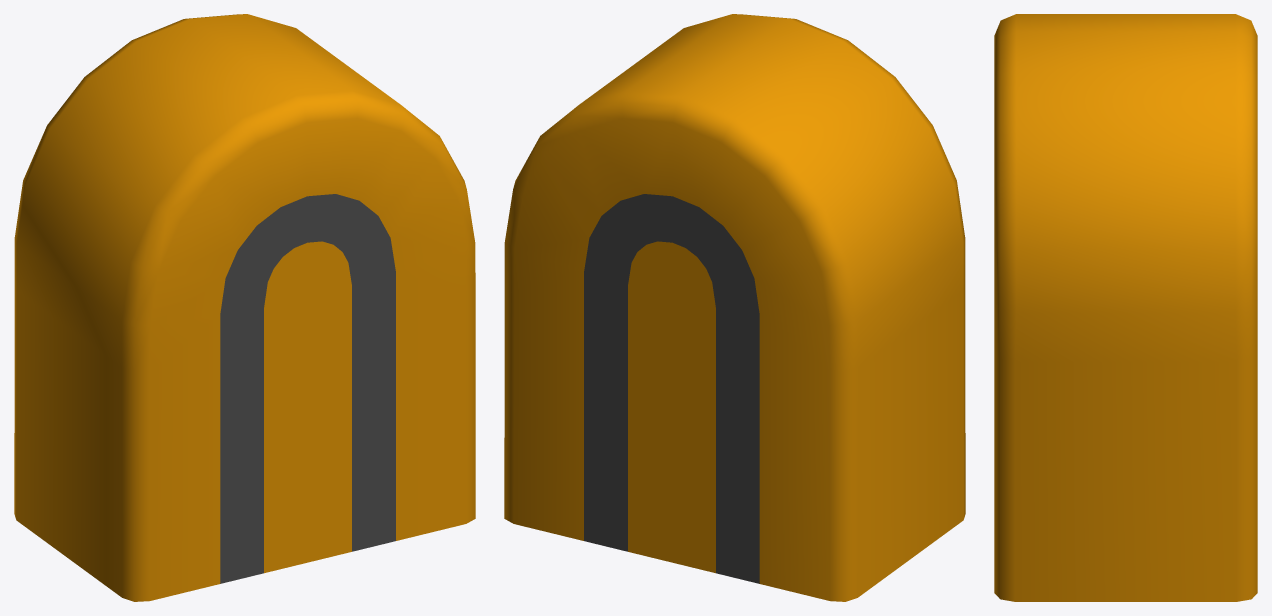
Rendered from obj_dekotora_stripelight05.fbx.
The picture shows the model from 3 angles, left to right: view 1: azimuth 30°, elevation 25°; view 2: azimuth 150°, elevation 25°; view 3: azimuth 270°, elevation 25°; orthographic projection. The views are drawn at different scales.
Parts seen in each view (by area): view 1: Cube.064; view 2: Cube.064; view 3: Cube.064.
Boxes of the visible parts, x1,y1,x2,y2 form: Cube.064: [14, 14, 475, 601]; Cube.064: [504, 14, 965, 601]; Cube.064: [994, 14, 1257, 601].
Bounding box in the file's own units: 1.6 × 2 × 0.9959.
